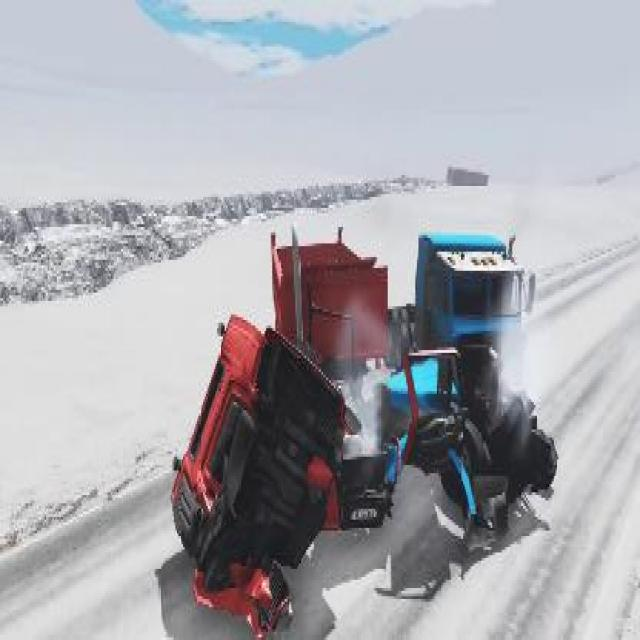accident: (169, 188, 558, 640)
